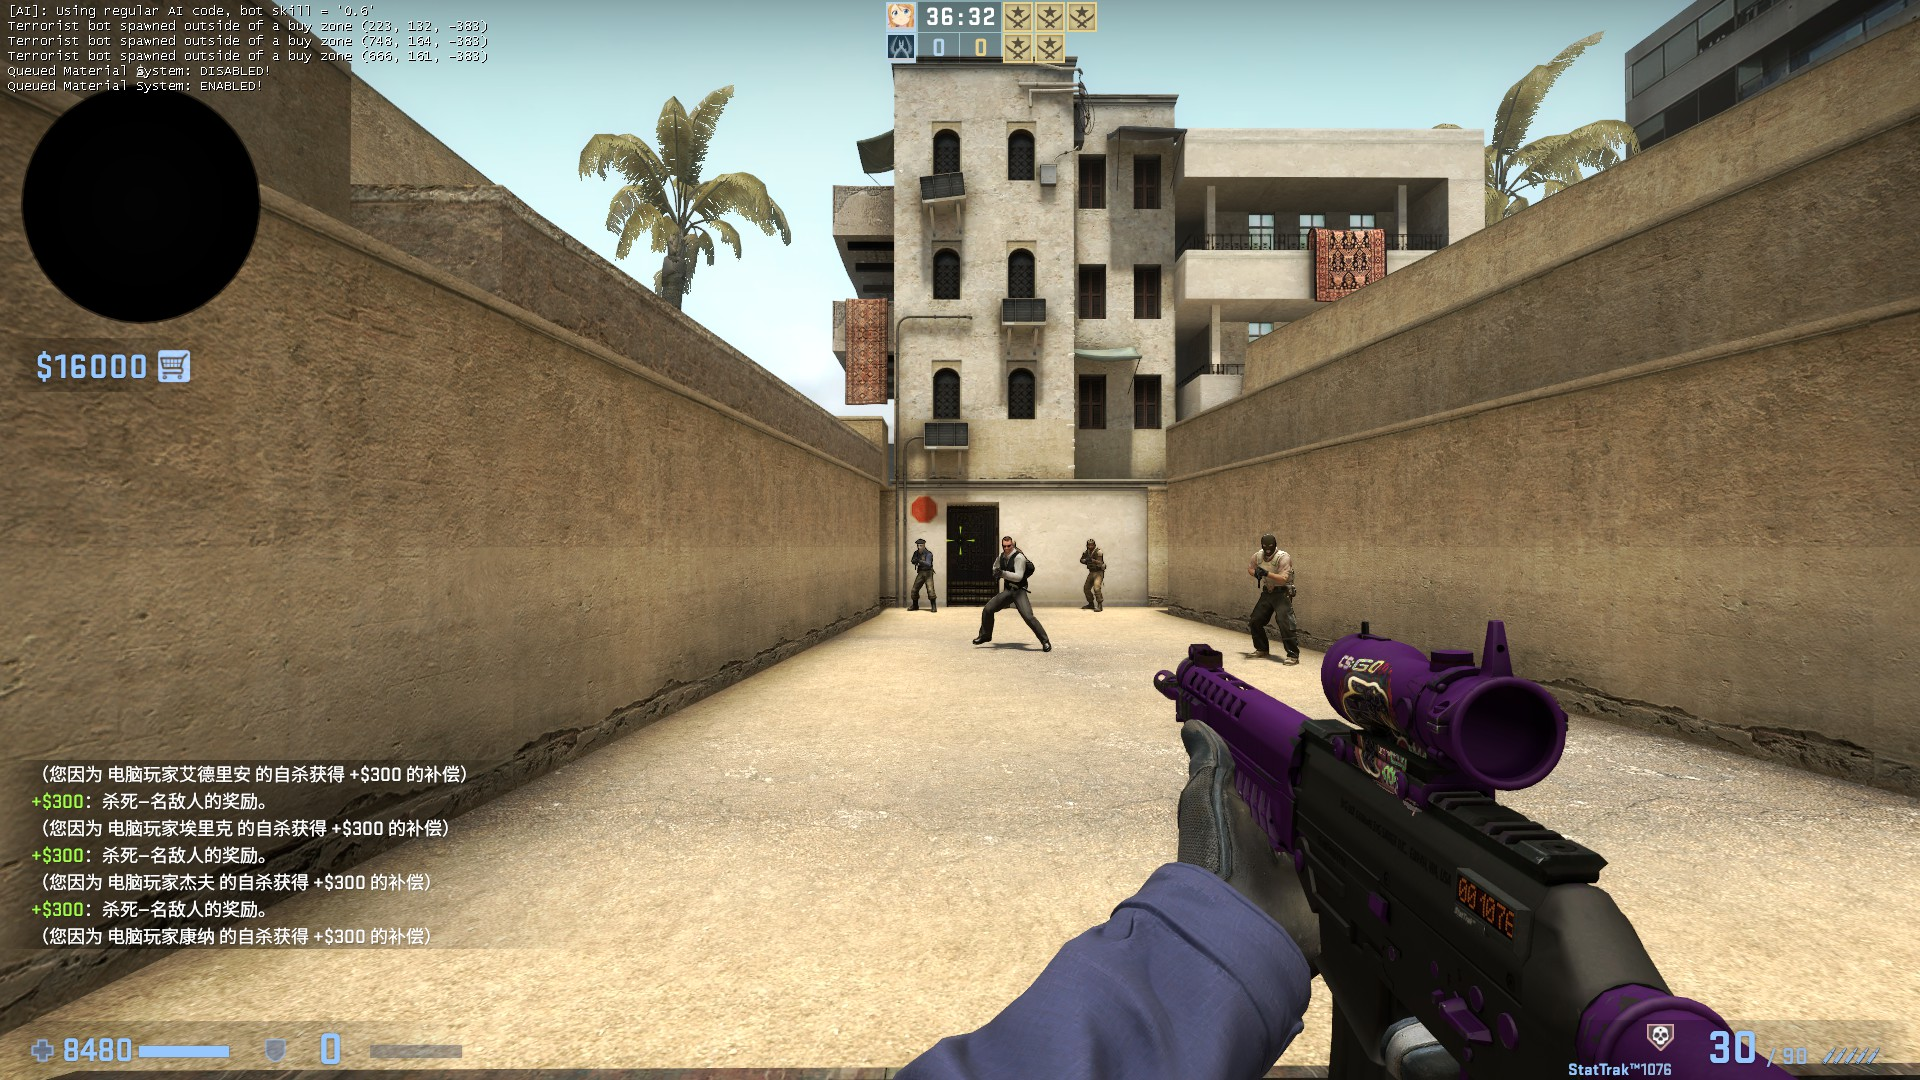head: (1259, 531, 1276, 557), (999, 536, 1013, 553), (912, 537, 926, 551), (1084, 538, 1095, 550)
